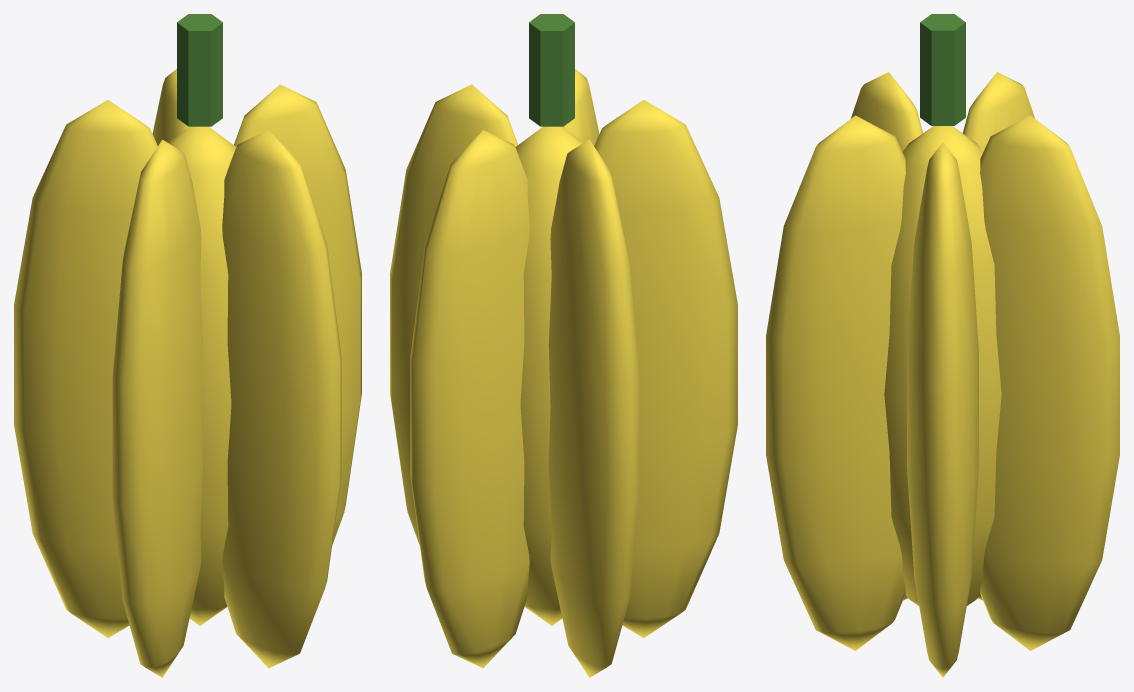
Rendered from Fruto_StarFruit.fbx.
3 views of the same model, side by side, from view 1: azimuth 30°, elevation 25°; view 2: azimuth 150°, elevation 25°; view 3: azimuth 270°, elevation 25° (orthographic).
Parts seen in each view (by area): view 1: Produto_StarFruit, Cabo_StarFruit; view 2: Produto_StarFruit, Cabo_StarFruit; view 3: Produto_StarFruit, Cabo_StarFruit.
Boxes of the visible parts, x1,y1,x2,y2 form: Produto_StarFruit: [14, 69, 361, 677]; Cabo_StarFruit: [177, 14, 222, 126]; Produto_StarFruit: [390, 69, 737, 677]; Cabo_StarFruit: [529, 14, 574, 126]; Produto_StarFruit: [766, 72, 1119, 677]; Cabo_StarFruit: [920, 14, 965, 125].
Size of the model in its own units: 0.513 by 1.04 by 0.5389.
1 material, 1 textured.
